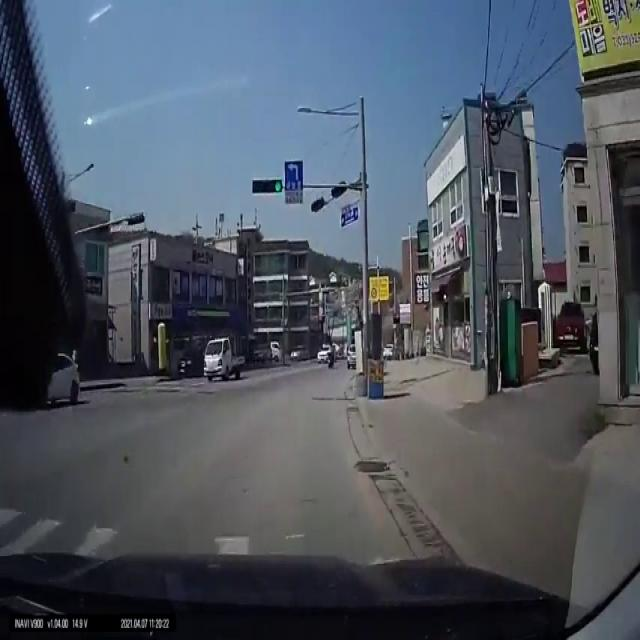Pothole: (353, 460, 391, 473)
